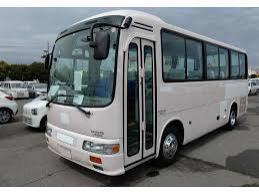bus: (43, 15, 251, 172)
